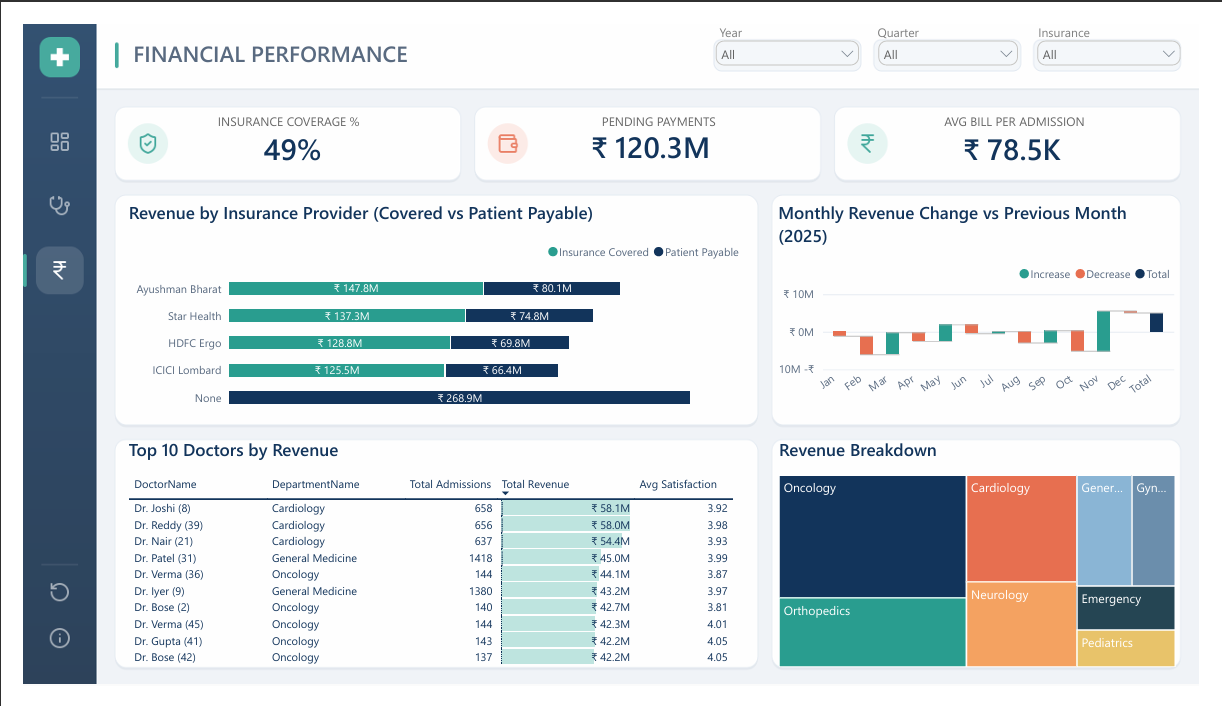

Layout of this report page (visuals, bound fields, positions):
{"tool":"powerbi","page":{"name":"Financials","canvas":[1280,720],"ordinal":2},"visuals":[{"type":"actionButton","box":[0,162.2,79.5,57.3],"z":0},{"type":"actionButton","box":[0,97,79.5,57.3],"z":1000},{"type":"textbox","box":[119.8,14.6,314.2,38.9],"z":2000},{"type":"cardVisual","fields":{"Data":["_measures.Insurance Coverage %"]},"box":[246.2,103.7,105.3,59.9],"z":3000},{"type":"cardVisual","fields":{"Data":["_measures.Pending Payments"]},"box":[602.5,102,176.5,59.9],"z":4000},{"type":"cardVisual","fields":{"Data":["_measures.Avg Bill per Admission"]},"box":[1007.4,110.1,149,48.6],"z":5000},{"type":"slicer","fields":{"Values":["Dim_Date.Year"]},"box":[749.2,12.7,165.4,39.8],"z":6000},{"type":"slicer","fields":{"Values":["Dim_Date.Quarter"]},"box":[925.7,12.7,162.2,41.4],"z":7000},{"type":"slicer","fields":{"Values":["Dim_Patient.InsuranceProvider"]},"box":[1099.1,12.7,165.4,38.2],"z":8000},{"type":"textbox","box":[758,0,41.4,20.7],"z":9000},{"type":"textbox","box":[930,0,81.1,20.7],"z":10000},{"type":"textbox","box":[1105,0,93.8,20.7],"z":11000},{"type":"textbox","box":[211.6,97,160.7,23.9],"z":12000},{"type":"textbox","box":[630,97,134.1,24.2],"z":13000},{"type":"textbox","box":[999.3,97,170.1,29.2],"z":14000},{"type":"barChart","title":"Revenue by Insurance Provider (Covered vs Patient Payable)","fields":{"Category":["Dim_Patient.InsuranceProvider"],"Y":["_measures.Insurance Covered","_measures.Patient Payable"]},"box":[98.8,178.2,701.3,264],"z":15000},{"type":"waterfallChart","title":"Monthly Revenue Change vs Previous Month (2025)","fields":{"Category":["Dim_Date.Month"],"Y":["_measures.Revenue MoM Change"]},"box":[806.4,178.1,462.9,257.7],"z":16000},{"type":"tableEx","title":"Top 10 Doctors by Revenue","fields":{"Values":["Dim_Doctor.DoctorName","Dim_Department.DepartmentName","_measures.Total Admissions","_measures.Total Revenue","_measures.Avg Satisfaction"]},"box":[98.8,435.7,701.3,278.6],"z":17000},{"type":"treemap","title":"Revenue Breakdown","fields":{"Group":["Dim_Department.DepartmentName"],"Values":["_measures.Total Revenue"]},"box":[807,436,463,279],"z":18000},{"type":"actionButton","box":[17.8,596,45.3,42.1],"z":19000},{"type":"actionButton","box":[17.8,637.6,45.3,51.8],"z":20000}]}

Visuals, with their boxes on the page's 1280x720 design canvas (x1, y1, x2, y2). These are canvas units, not pixel positions in the 1222x706 screenshot, which may show the page scaled, cropped or inside an application window:
actionButton: 0 162 80 220
actionButton: 0 97 80 154
textbox: 120 15 434 54
cardVisual - _measures.Insurance Coverage %: 246 104 352 164
cardVisual - _measures.Pending Payments: 602 102 779 162
cardVisual - _measures.Avg Bill per Admission: 1007 110 1156 159
slicer - Dim_Date.Year: 749 13 915 52
slicer - Dim_Date.Quarter: 926 13 1088 54
slicer - Dim_Patient.InsuranceProvider: 1099 13 1264 51
textbox: 758 0 799 21
textbox: 930 0 1011 21
textbox: 1105 0 1199 21
textbox: 212 97 372 121
textbox: 630 97 764 121
textbox: 999 97 1169 126
"Revenue by Insurance Provider (Covered vs Patient Payable)" barChart: 99 178 800 442
"Monthly Revenue Change vs Previous Month (2025)" waterfallChart: 806 178 1269 436
"Top 10 Doctors by Revenue" tableEx: 99 436 800 714
"Revenue Breakdown" treemap: 807 436 1270 715
actionButton: 18 596 63 638
actionButton: 18 638 63 689
